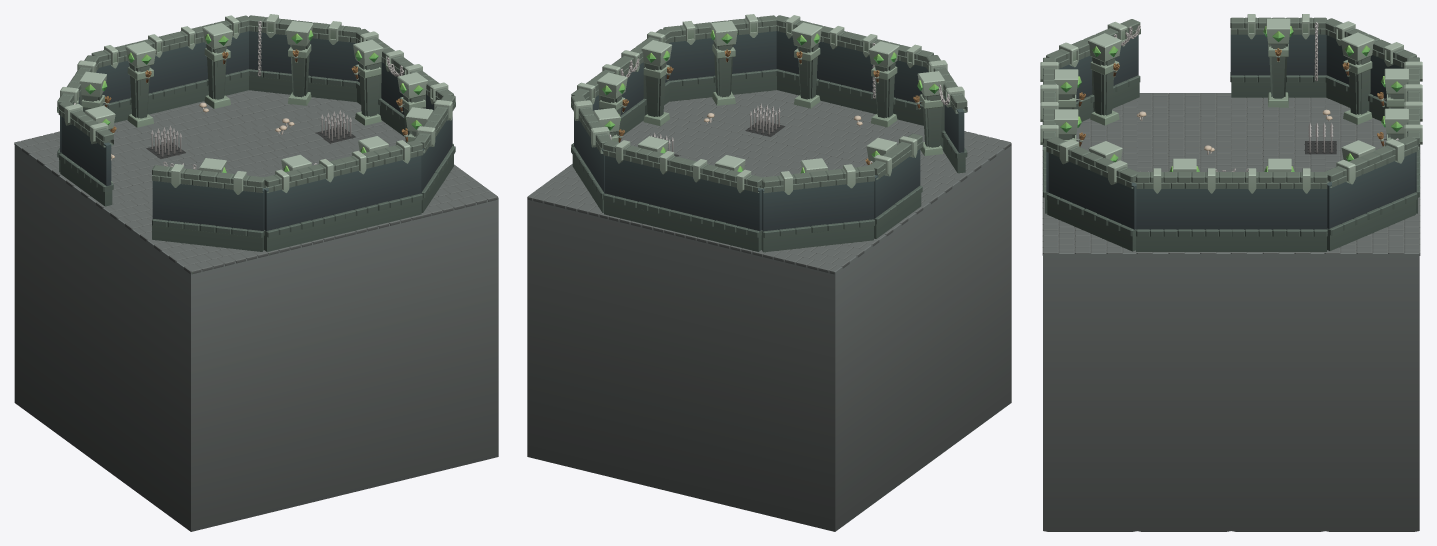
The model's file is dungeonkit_jade_boss.fbx.
3 views of the same model, side by side, from view 1: azimuth 30°, elevation 25°; view 2: azimuth 150°, elevation 25°; view 3: azimuth 270°, elevation 25° (orthographic). The views are drawn at different scales.
Parts seen in each view (by area): view 1: Cube.019; view 2: Cube.019; view 3: Cube.019.
Boxes of the visible parts, bbox=[...] form: Cube.019: bbox=[14, 14, 498, 531]; Cube.019: bbox=[527, 14, 1011, 531]; Cube.019: bbox=[1040, 14, 1422, 531].
Bounding box in the file's own units: 2729 × 2829 × 2723.
